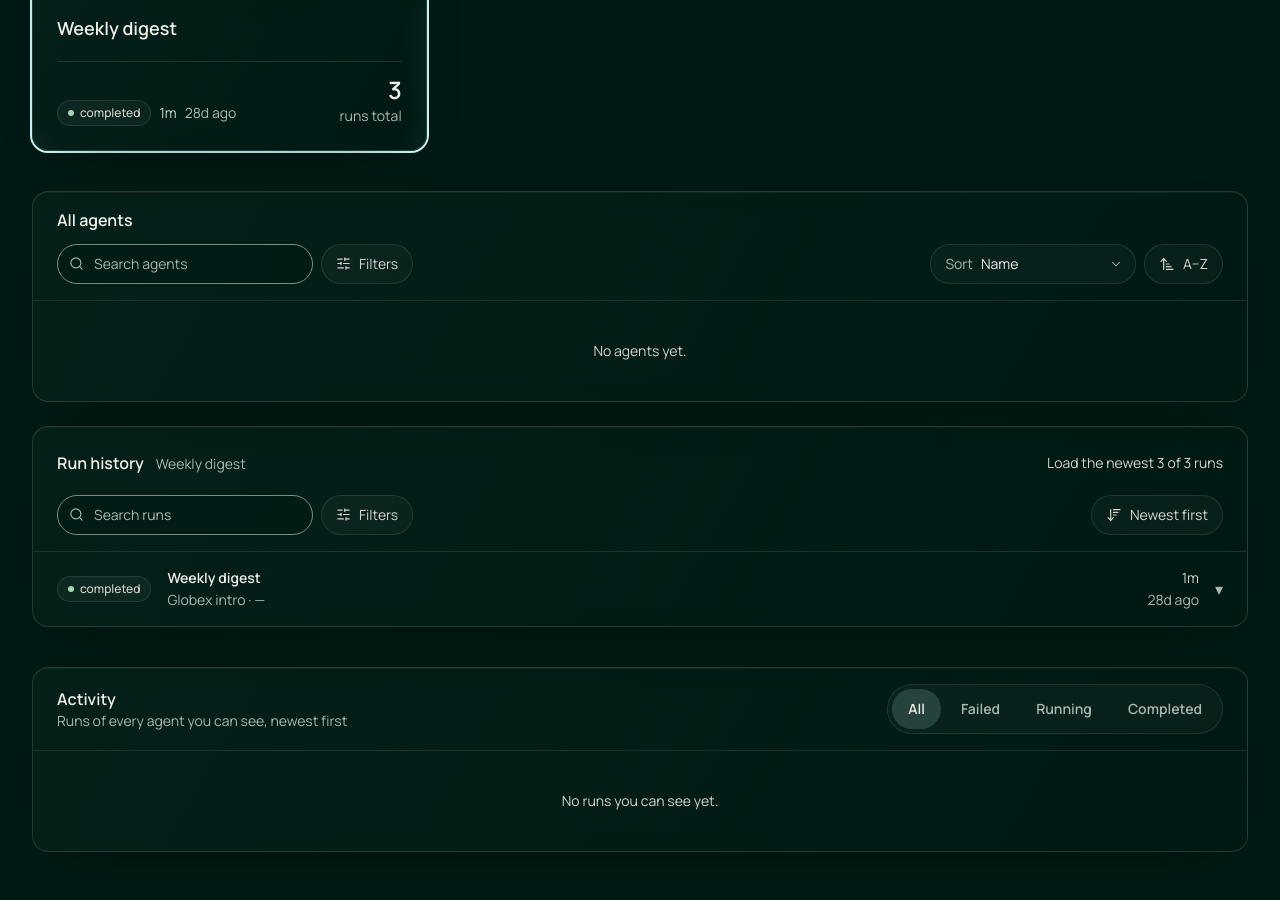
agents page run history list controls › loads the full history on request, then older runs by cursor until the last page
(page scrolled)
Click the button "Load the newest 3 of 3 runs": (1135, 462) 1039,442 -> 1231,482
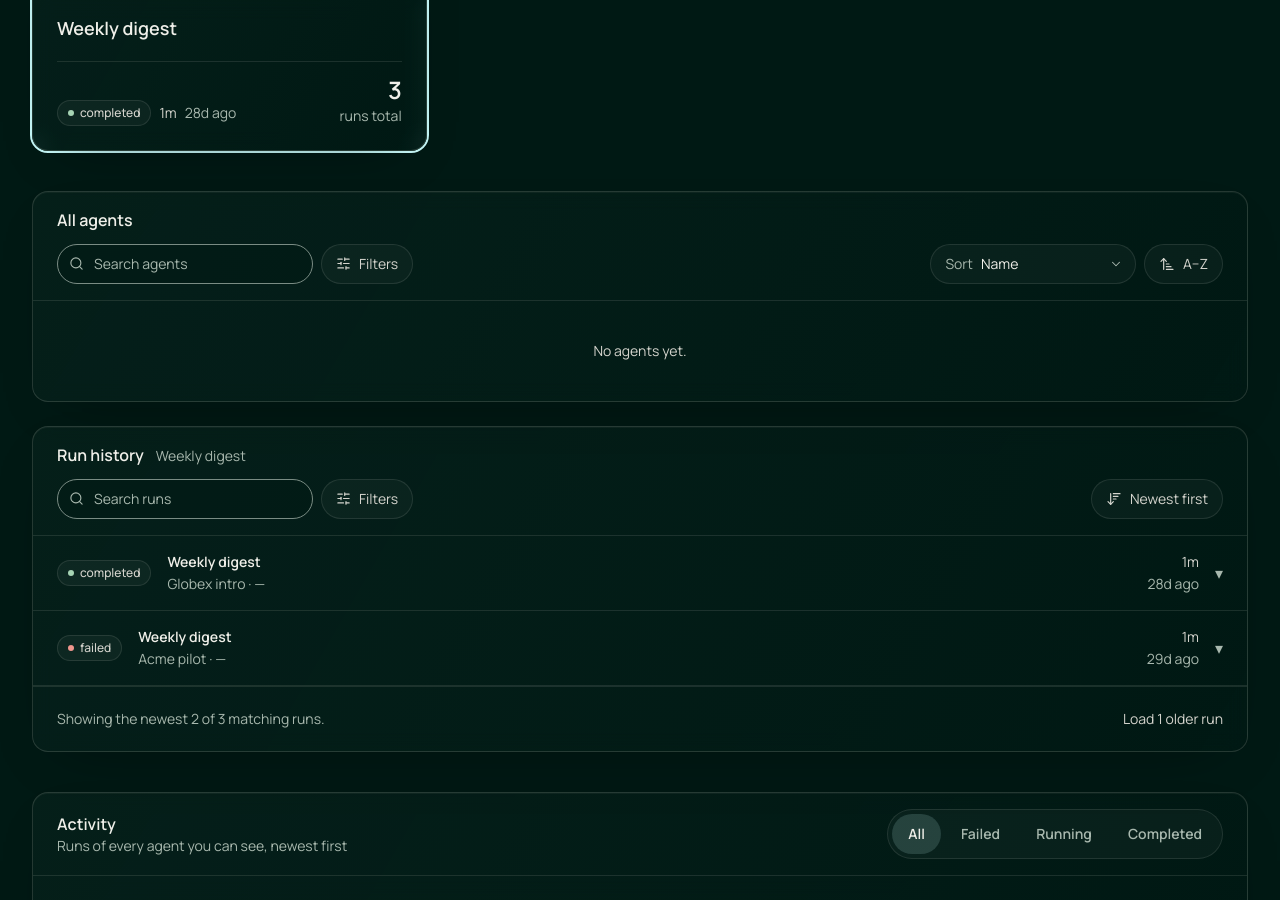
Result: the text "Acme pilot · —" is shown at 138,648 -> 226,668
Result: the text "Showing the newest 2 of 3 matching runs." is shown at 57,708 -> 325,728
Click the button "Load 1 older run": (1173, 718) 1115,698 -> 1231,738
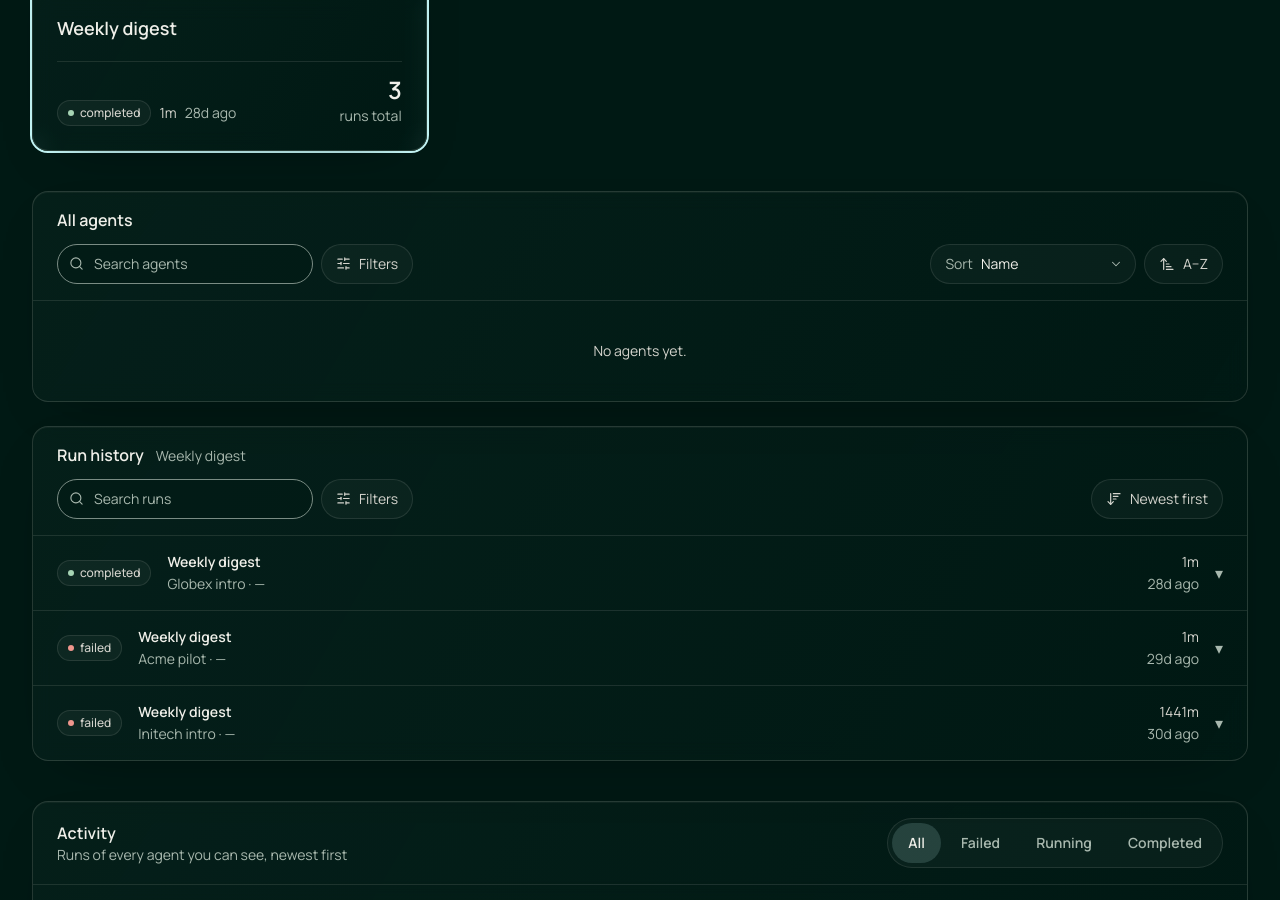
Result: the text "Initech intro · —" is shown at 138,724 -> 236,742
Result: the text "Globex intro · —" is shown 3 times at 167,574 -> 265,592; 138,648 -> 226,668; 138,724 -> 236,742
